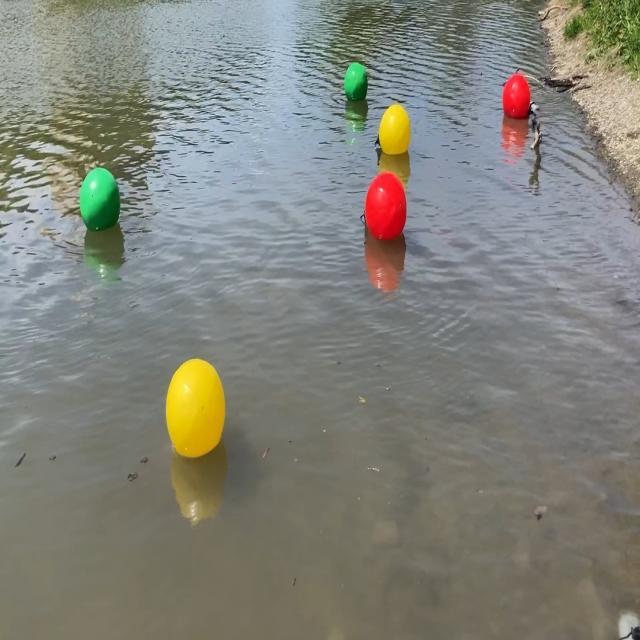buoy: (164, 354, 227, 460), (364, 169, 408, 242), (76, 166, 122, 232), (376, 104, 412, 154), (502, 70, 534, 121), (342, 62, 368, 104)
